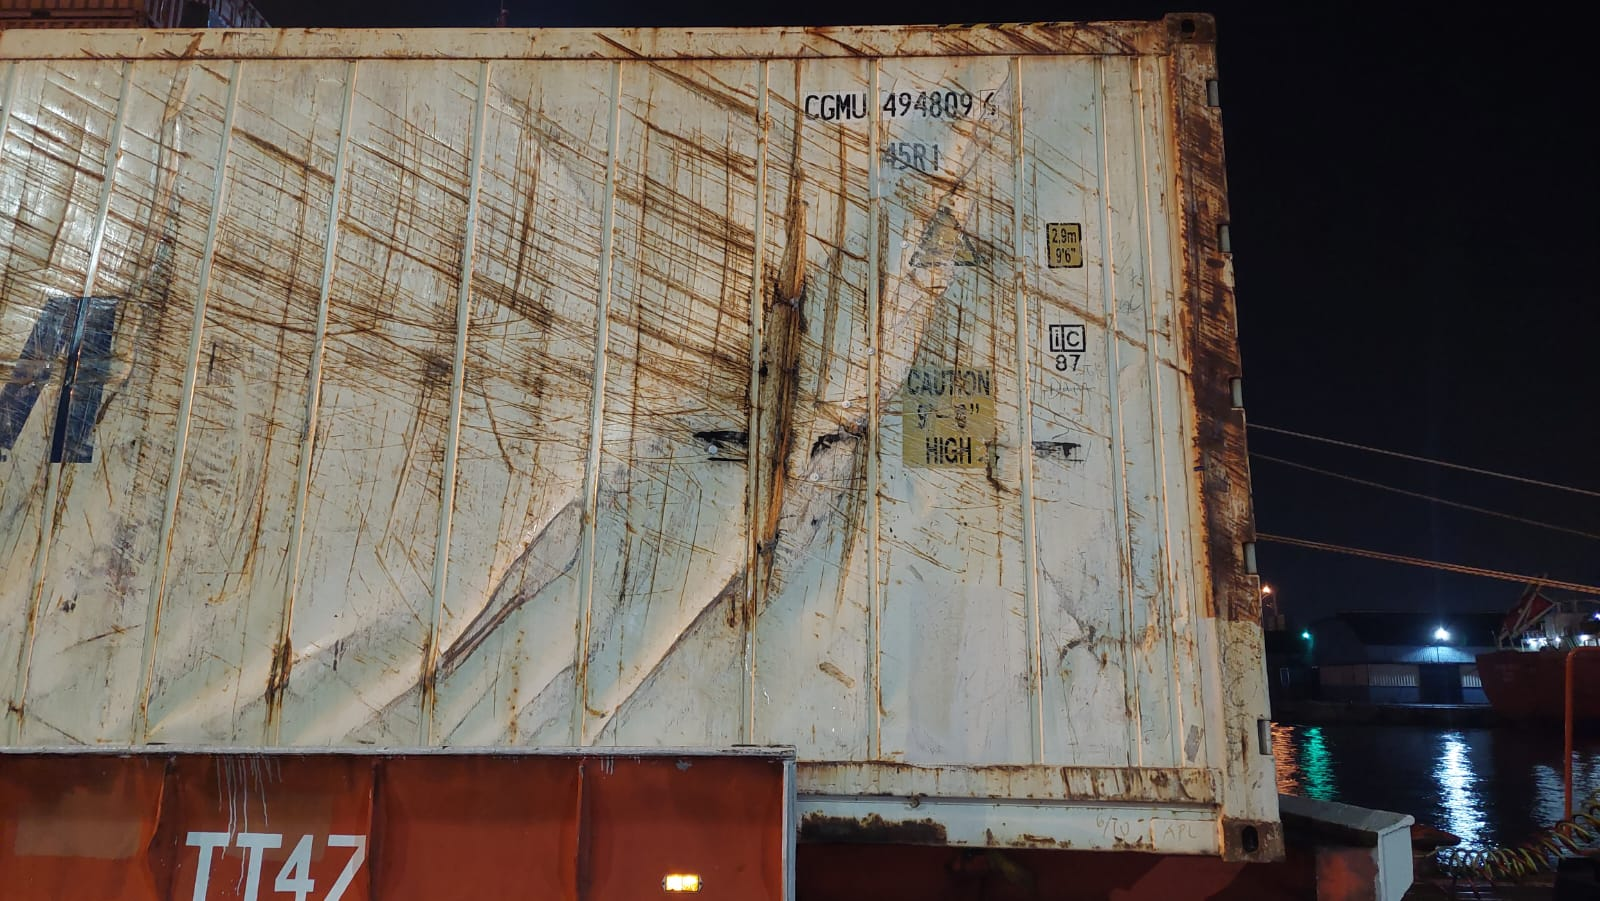bulged: (529, 130, 1025, 723)
